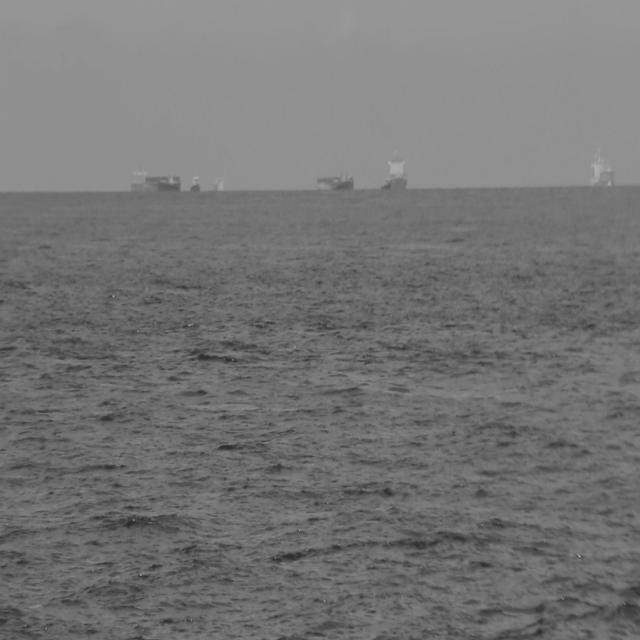ship: (131, 166, 181, 194), (378, 148, 408, 194), (587, 144, 614, 189), (315, 174, 355, 193), (188, 173, 201, 194)
